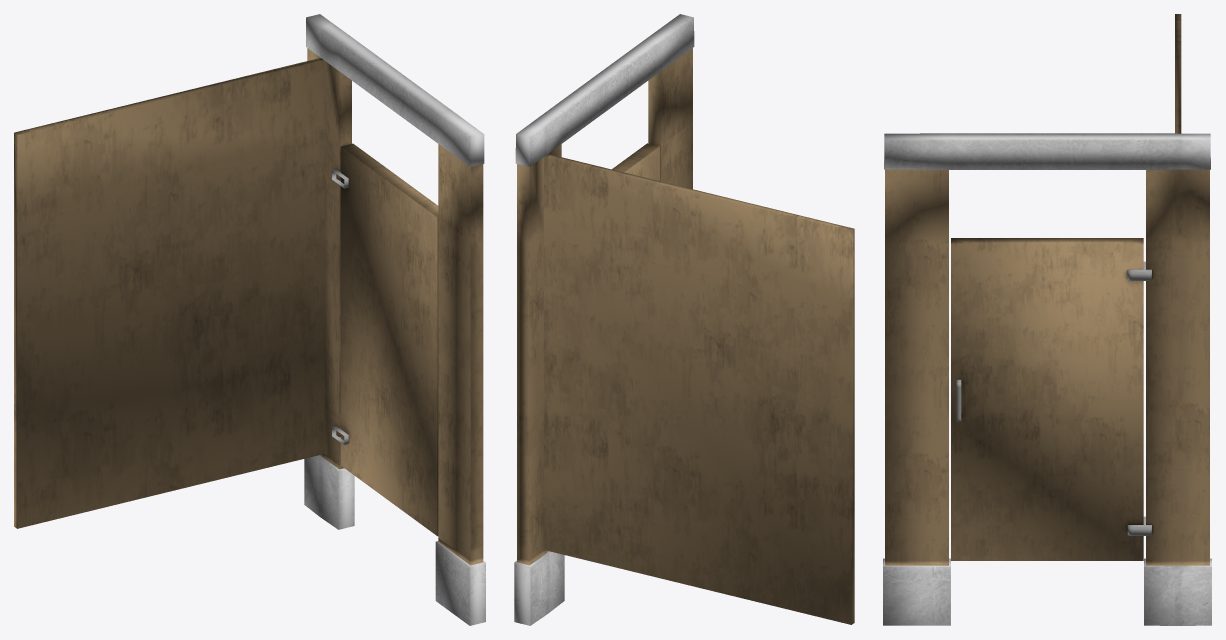
The model's file is Bathroom_Cubicle.fbx.
3 renders of one model, left to right at view 1: azimuth 30°, elevation 25°; view 2: azimuth 150°, elevation 25°; view 3: azimuth 270°, elevation 25°, orthographic.
Parts seen in each view (by area): view 1: Cubicle_low; view 2: Cubicle_low; view 3: Cubicle_low.
Boxes of the visible parts, x1,y1,x2,y2 form: Cubicle_low: [14, 14, 485, 625]; Cubicle_low: [514, 14, 854, 625]; Cubicle_low: [883, 14, 1211, 625].
Bounding box in the file's own units: 165 × 234 × 144.
1 material, 1 textured.
